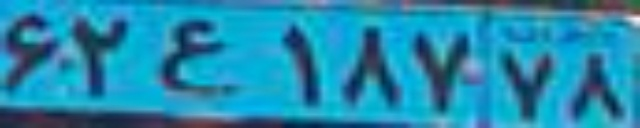1: (276, 20, 317, 106)
2: (70, 13, 128, 97)
6: (2, 13, 62, 92)
7: (410, 23, 473, 113), (491, 47, 552, 121)
8: (332, 21, 406, 106), (563, 50, 628, 123)
ain: (153, 17, 236, 95)
